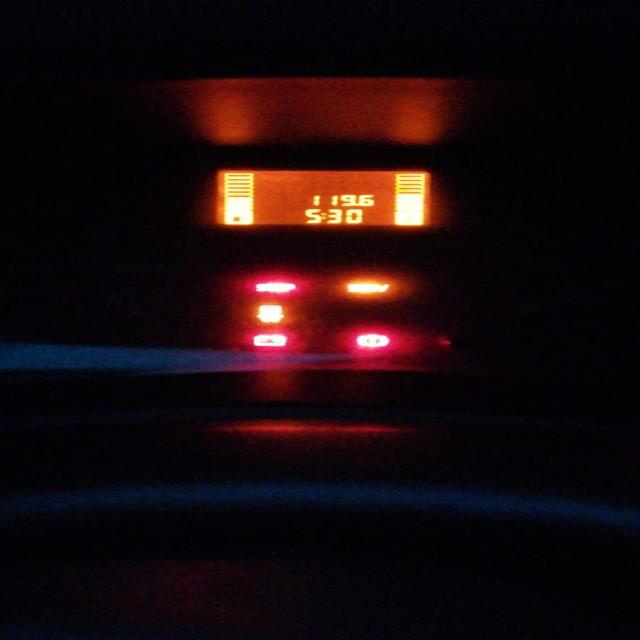odometer: (212, 169, 434, 227)
